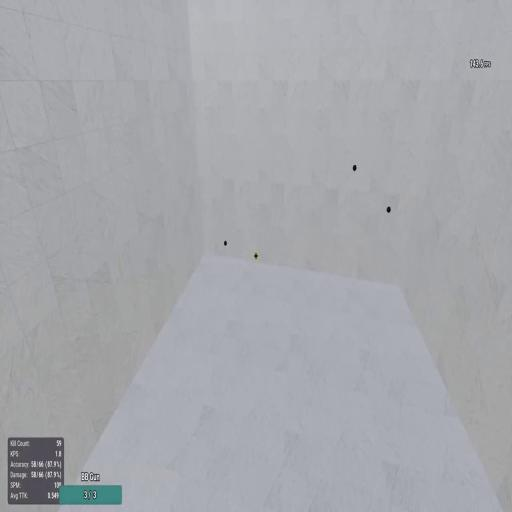Crosshair: (253, 252, 259, 262)
Target: (223, 238, 228, 248), (386, 206, 390, 215), (352, 164, 357, 171)
